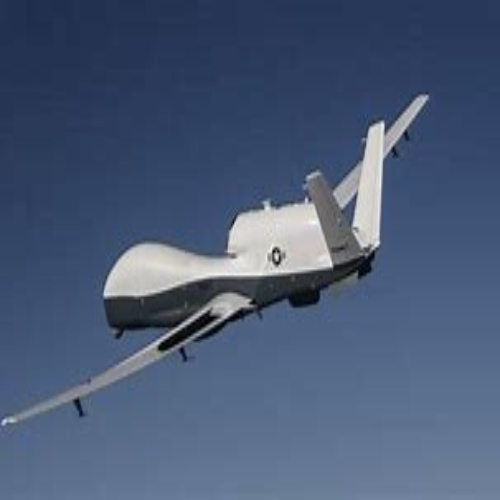uav: (1, 95, 429, 434)
